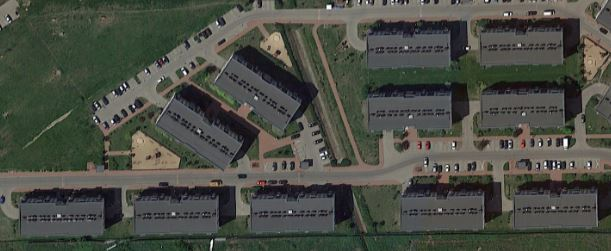block of flats: (211, 49, 302, 132), (154, 87, 245, 170), (16, 194, 107, 238), (130, 191, 221, 235), (244, 190, 335, 234), (397, 189, 488, 233), (510, 184, 601, 228), (476, 85, 567, 129), (476, 24, 567, 68), (362, 28, 453, 72), (364, 89, 455, 133)
